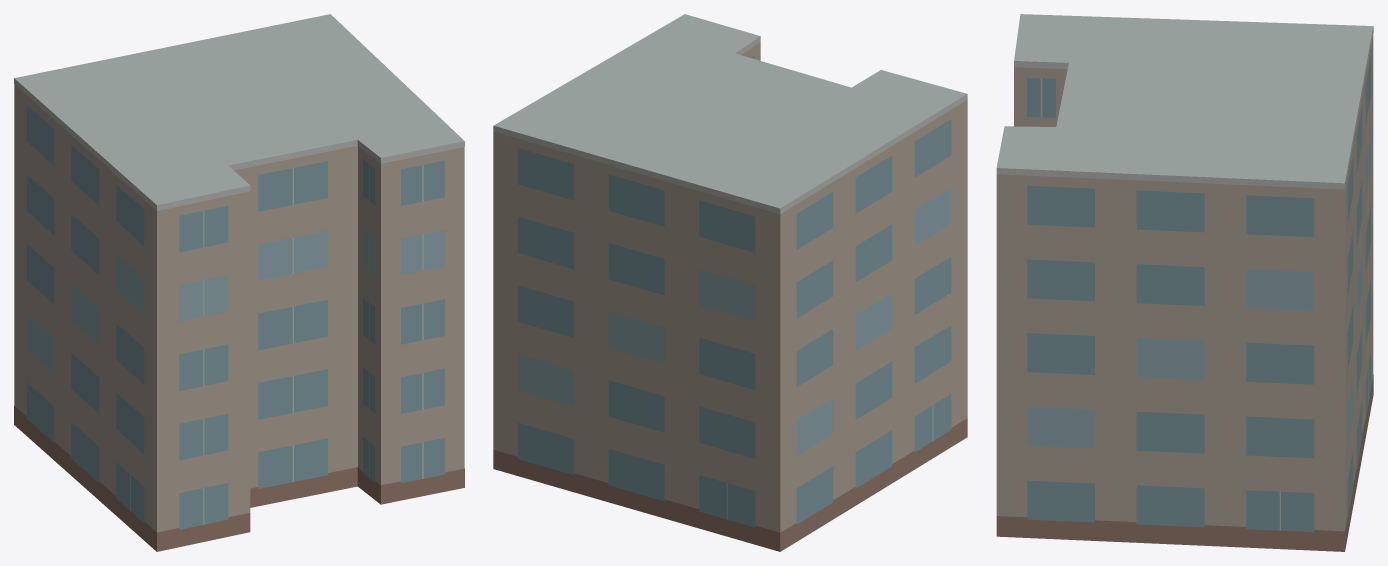
The model's file is survey-upis-32575830.glb.
3 renders of one model, left to right at view 1: azimuth 30°, elevation 25°; view 2: azimuth 150°, elevation 25°; view 3: azimuth 270°, elevation 25°, orthographic. The views are drawn at different scales.
Visible parts, largest first — view 1: survey-upis-32575830.tmp; view 2: survey-upis-32575830.tmp; view 3: survey-upis-32575830.tmp.
Part boxes in pixels (<box>): survey-upis-32575830.tmp: <box>14,14,464,551</box>; survey-upis-32575830.tmp: <box>493,14,967,551</box>; survey-upis-32575830.tmp: <box>996,14,1373,551</box>.
Size of the model in its own units: 14.19 by 14.4 by 13.36.
